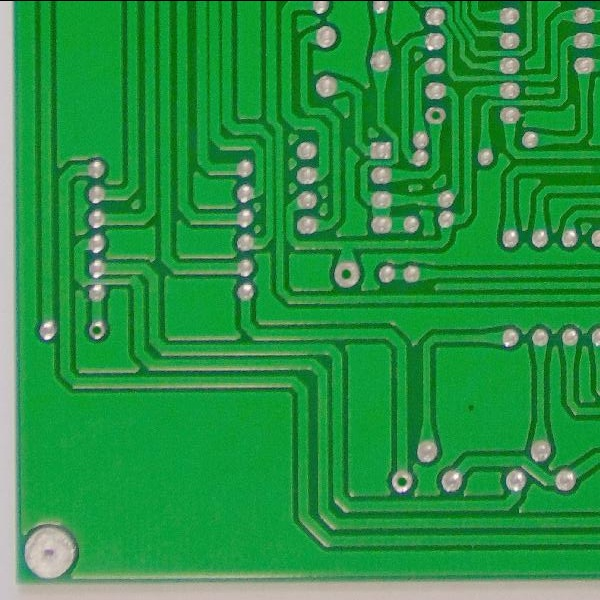missing_hole: (332, 256, 362, 294), (422, 102, 451, 128), (387, 469, 413, 496), (88, 320, 106, 340)
